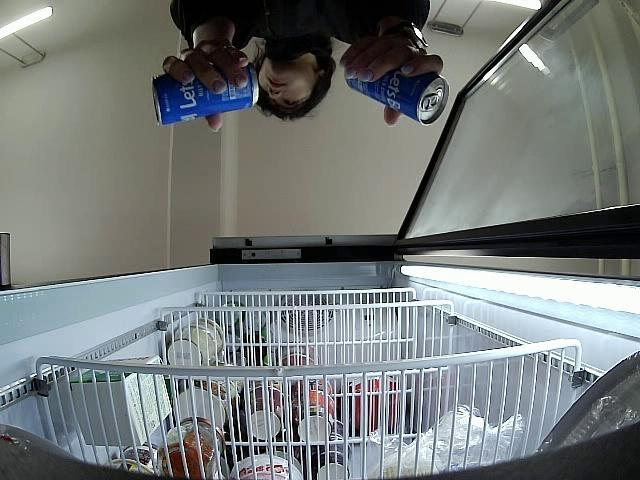15_letsbe: (153, 61, 258, 126), (344, 68, 449, 125)
